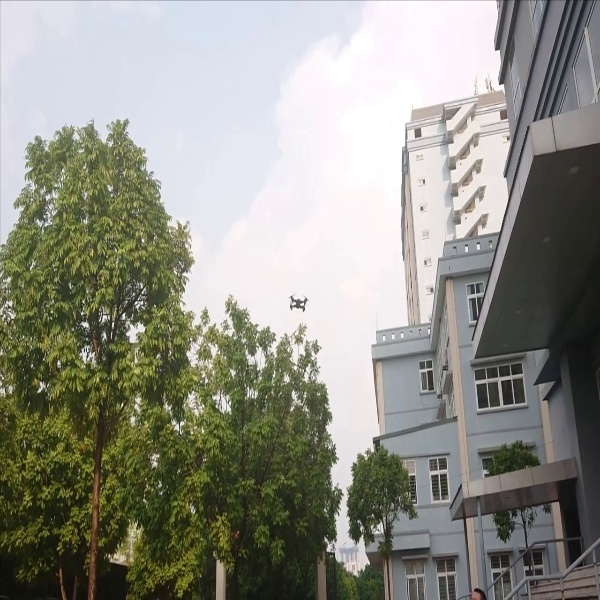drone: (285, 289, 313, 317)
